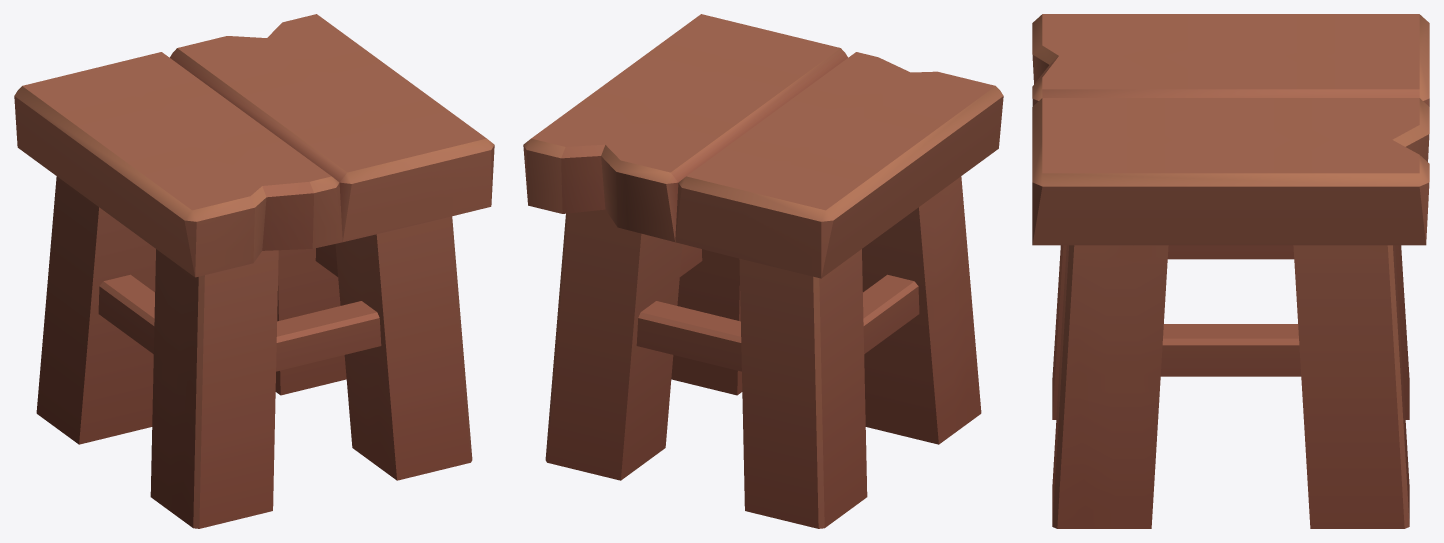
File: d_kaykit_tablette.glb
3 renders of one model, left to right at view 1: azimuth 30°, elevation 25°; view 2: azimuth 150°, elevation 25°; view 3: azimuth 270°, elevation 25°, orthographic. The views are drawn at different scales.
Visible parts, largest first — view 1: d_kaykit_tablette; view 2: d_kaykit_tablette; view 3: d_kaykit_tablette.
Boxes of the visible parts, box(x1,y1,x2,y2) form: d_kaykit_tablette: box(14, 14, 494, 528); d_kaykit_tablette: box(523, 14, 1003, 528); d_kaykit_tablette: box(1032, 14, 1429, 528).
Bounding box in the file's own units: 1 × 1 × 1.
Materials: 1 (1 with a texture image).
